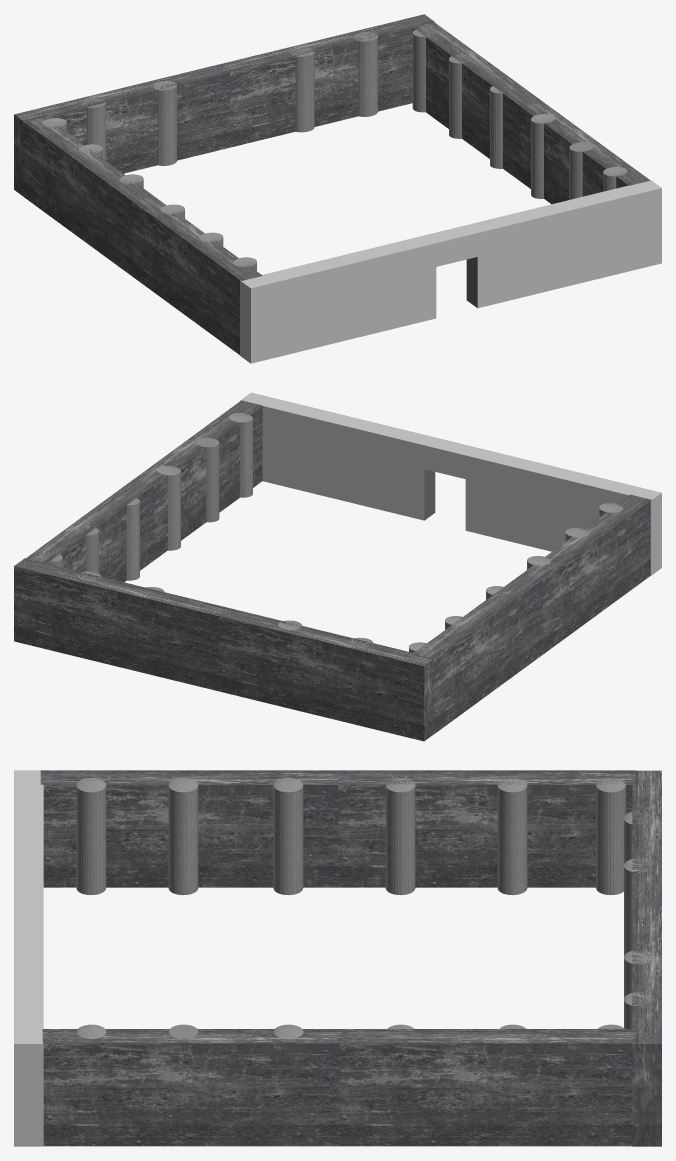
File: hab_tomb.fbx
3 renders of one model, top to bottom at view 1: azimuth 30°, elevation 25°; view 2: azimuth 150°, elevation 25°; view 3: azimuth 270°, elevation 25°, orthographic. The views are drawn at different scales.
Parts seen in each view (by area): view 1: Cylinder_024, Cylinder_013, Cylinder_010, Cylinder_016, Cylinder_020, Cylinder_001, Cylinder_002, Cylinder_015, Cylinder_011, Cylinder_014, Cylinder_007, Cylinder_004 (+4 smaller); view 2: Cylinder_024, Cylinder_010, Cylinder_013, Cylinder_016, Cylinder_020, Cylinder_002, Cylinder_001, Cylinder_003, Cylinder_004, Cylinder_006, Cylinder_009, Cylinder_008; view 3: Cylinder_001, Cylinder_002, Cylinder_020, Cylinder_016, Cylinder_024, Cylinder_013, Cylinder_010, Cylinder_022, Cylinder_005, Cylinder_021, Cylinder_017, Cylinder_018 (+3 smaller).
Part boxes in pixels (x1,y1,x2,y2): Cylinder_024: [240, 180, 661, 363]; Cylinder_013: [219, 14, 435, 147]; Cylinder_010: [14, 64, 230, 196]; Cylinder_016: [23, 117, 153, 275]; Cylinder_020: [132, 196, 262, 354]; Cylinder_001: [413, 22, 542, 180]; Cylinder_002: [520, 101, 650, 204]; Cylinder_015: [354, 32, 377, 116]; Cylinder_011: [291, 47, 314, 132]; Cylinder_014: [153, 81, 176, 165]; Cylinder_007: [412, 27, 436, 112]; Cylinder_004: [531, 114, 554, 198]; Cylinder_024: [240, 392, 661, 575]; Cylinder_010: [219, 608, 433, 741]; Cylinder_013: [14, 558, 229, 691]; Cylinder_016: [413, 574, 542, 734]; Cylinder_020: [521, 494, 651, 654]; Cylinder_002: [134, 400, 262, 559]; Cylinder_001: [26, 479, 155, 582]; Cylinder_003: [195, 437, 219, 522]; Cylinder_004: [157, 465, 180, 550]; Cylinder_006: [229, 413, 252, 497]; Cylinder_009: [116, 496, 139, 580]; Cylinder_008: [75, 526, 98, 573]; Cylinder_001: [337, 1029, 635, 1146]; Cylinder_002: [42, 1029, 340, 1146]; Cylinder_020: [40, 770, 338, 887]; Cylinder_016: [338, 770, 635, 887]; Cylinder_024: [14, 770, 43, 1146]; Cylinder_013: [632, 907, 661, 1146]; Cylinder_010: [632, 770, 661, 907]; Cylinder_022: [168, 778, 198, 895]; Cylinder_005: [76, 778, 106, 895]; Cylinder_021: [273, 778, 303, 895]; Cylinder_017: [385, 778, 415, 895]; Cylinder_018: [497, 778, 527, 895].
Bounding box in the file's own units: 199 × 34.86 × 199.
